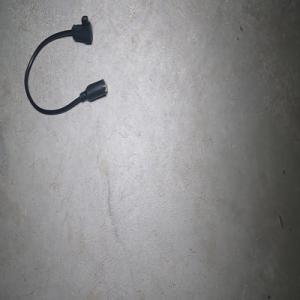Wire: (24, 15, 107, 115)
